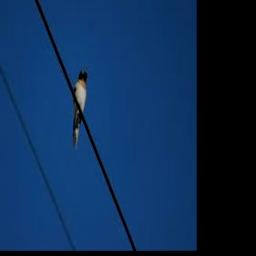Swallow: (71, 69, 87, 149)
